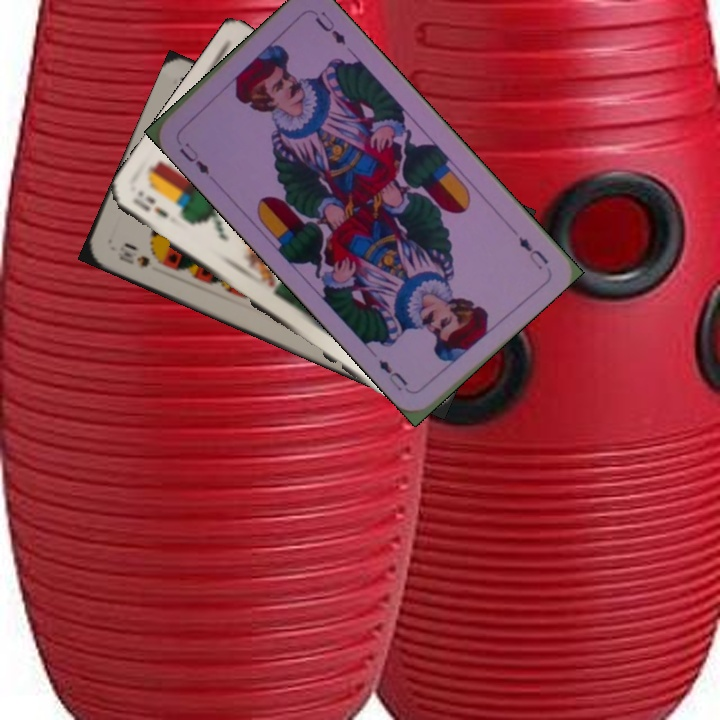EK: (128, 186, 172, 221)
EU: (175, 138, 213, 178), (514, 232, 551, 273)
S10: (113, 241, 167, 270)
